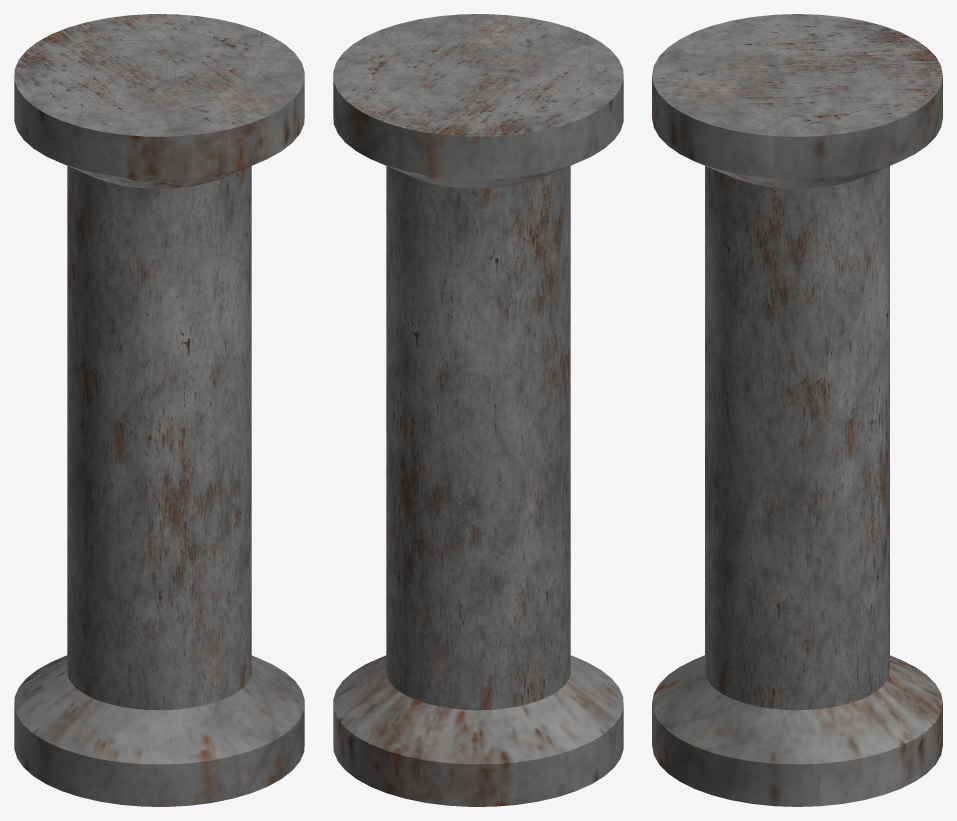
Rendered from Pillar_V2.fbx.
The picture shows the model from 3 angles, left to right: view 1: azimuth 30°, elevation 25°; view 2: azimuth 150°, elevation 25°; view 3: azimuth 270°, elevation 25°; orthographic projection.
Parts seen in each view (by area): view 1: pCylinder3; view 2: pCylinder3; view 3: pCylinder3.
Part boxes in pixels (<box>): pCylinder3: <box>14,14,304,806</box>; pCylinder3: <box>333,14,623,806</box>; pCylinder3: <box>652,14,942,806</box>.
Bounding box in the file's own units: 3.15 × 8 × 3.15.
